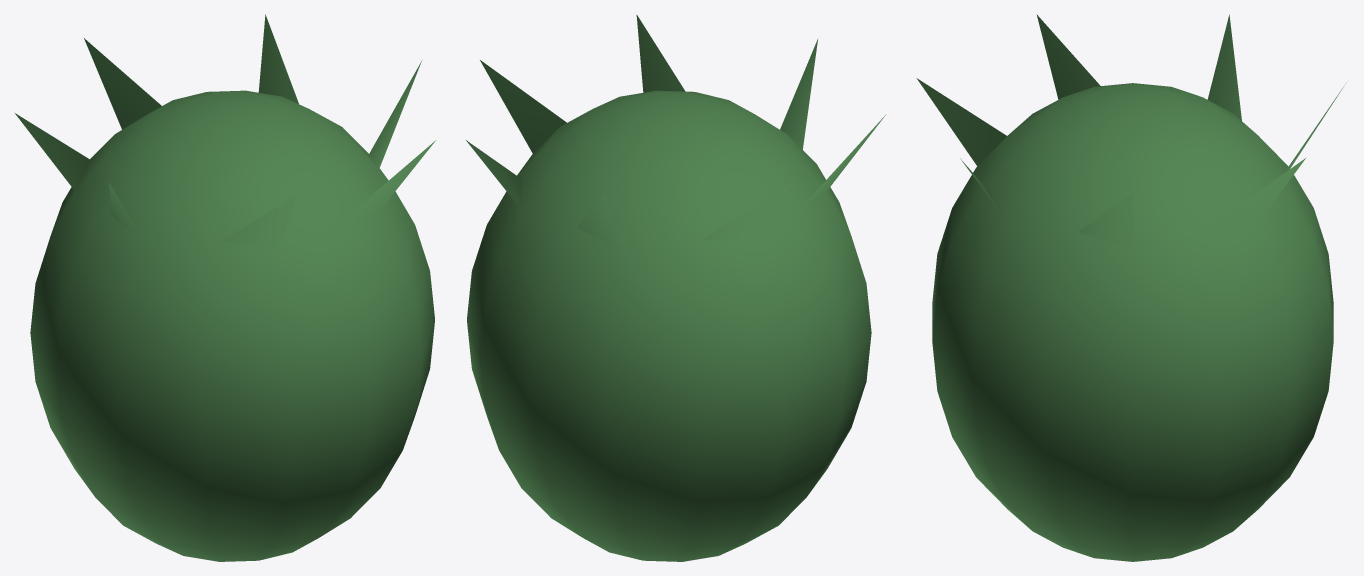
The model's file is Névoamusgo_stage3.obj.
The picture shows the model from 3 angles, left to right: view 1: azimuth 30°, elevation 25°; view 2: azimuth 150°, elevation 25°; view 3: azimuth 270°, elevation 25°; orthographic projection.
Size of the model in its own units: 2.7 by 3.12 by 2.74.
